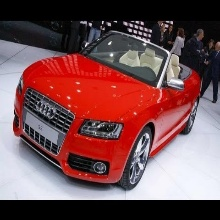no damage: (12, 31, 201, 191)
